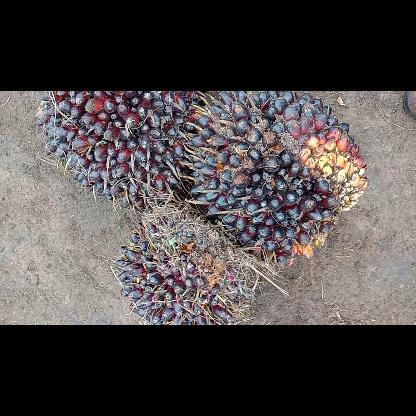TBS mentah: (181, 90, 368, 270), (31, 91, 208, 211), (109, 202, 257, 324)
